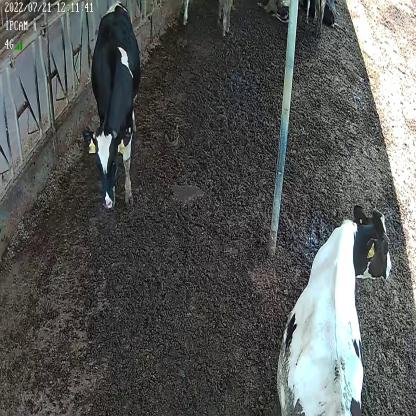cow: (276, 205, 395, 416), (82, 0, 142, 210)
